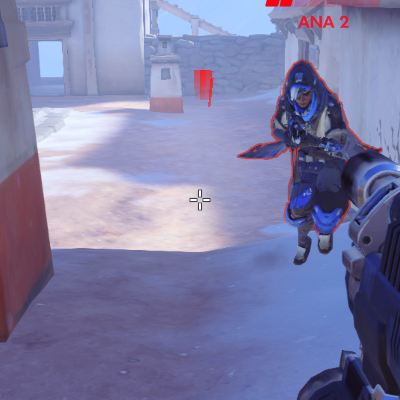hpbar: (265, 1, 381, 8)
